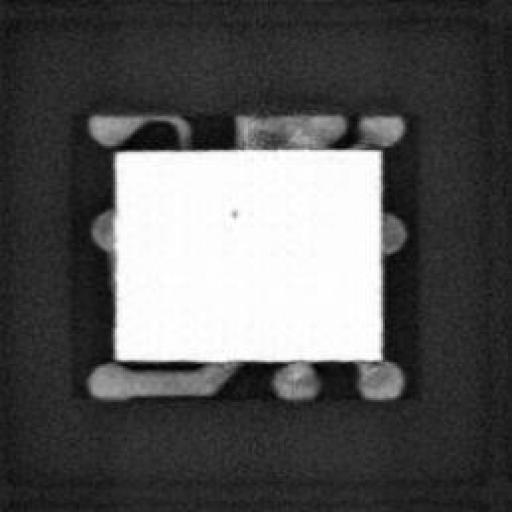DIE_INK: (224, 203, 238, 220)
